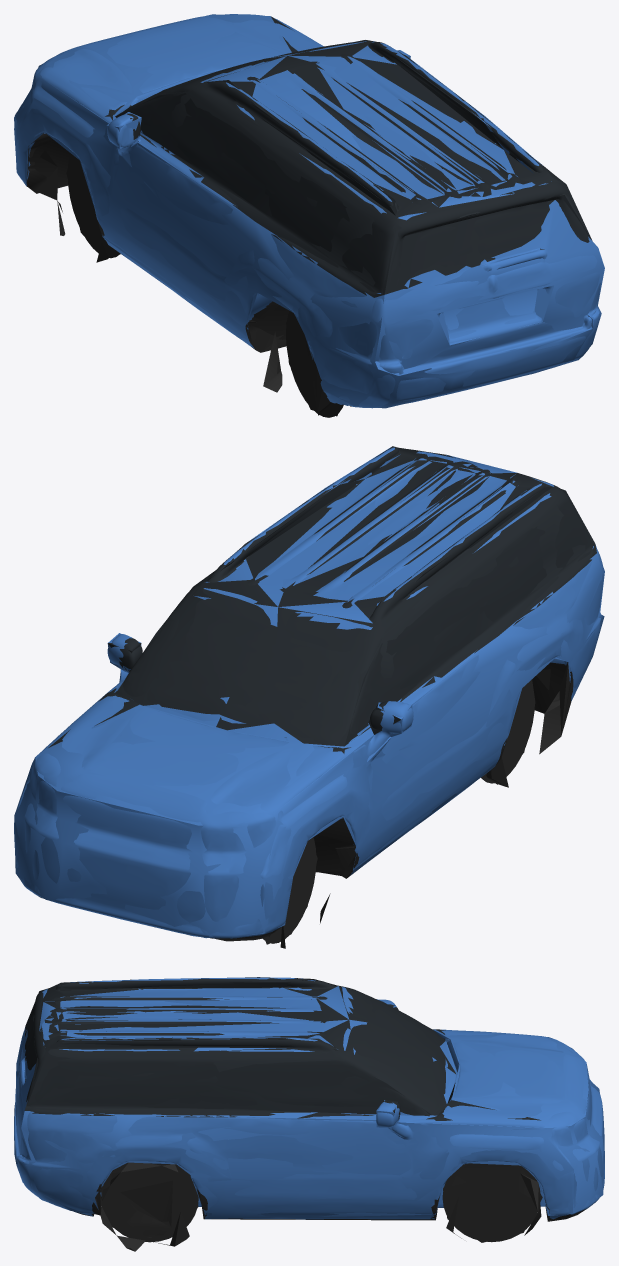
Rendered from hyundai-santa-fe.glb.
3 views of the same model, one above another, from view 1: azimuth 30°, elevation 25°; view 2: azimuth 150°, elevation 25°; view 3: azimuth 270°, elevation 25° (orthographic). The views are drawn at different scales.
Visible parts, largest first — view 1: body, far; view 2: body, far; view 3: body, far.
Part boxes in pixels (x1,y1,x2,y2): body: (14,14,600,417); far: (14,14,604,416); body: (14,447,603,948); far: (14,446,604,944); body: (14,977,604,1251); far: (14,977,604,1251).
Bounding box in the file's own units: 2.19 × 1.8 × 4.83.
